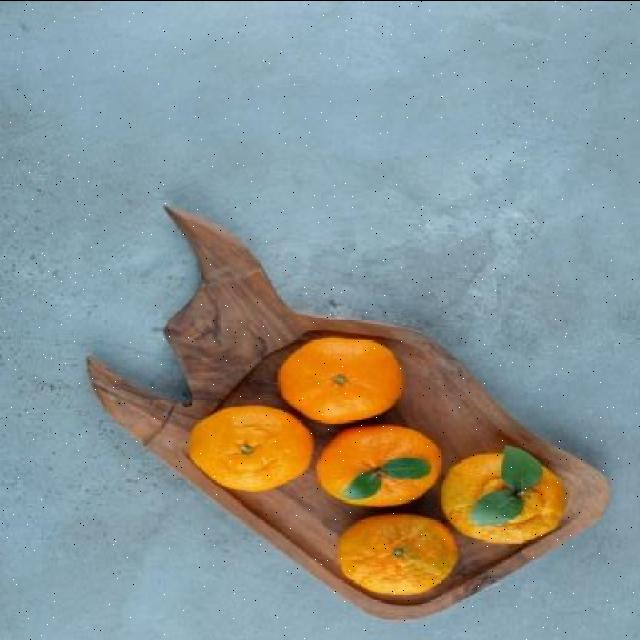Orange: (437, 448, 566, 544), (184, 404, 314, 492), (276, 336, 404, 424), (314, 424, 442, 508), (336, 514, 458, 598)
